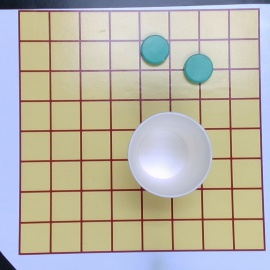cup: (128, 111, 213, 199)
green: (184, 54, 213, 84), (140, 35, 169, 64)
